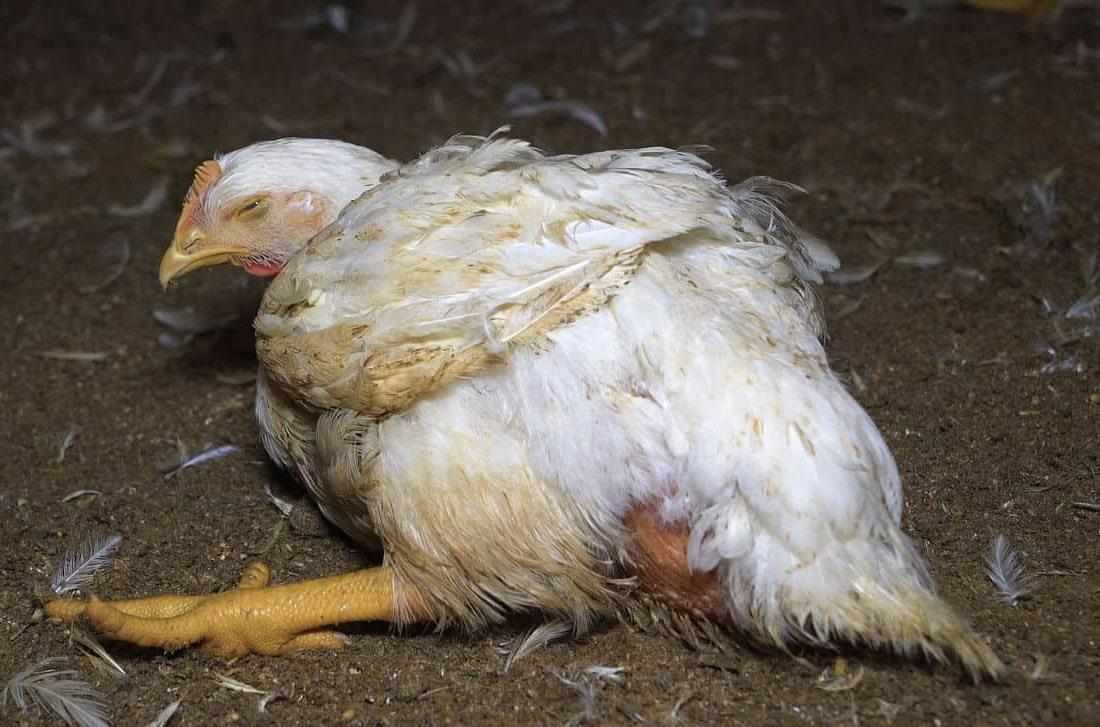AbNormal: (57, 120, 996, 688)
